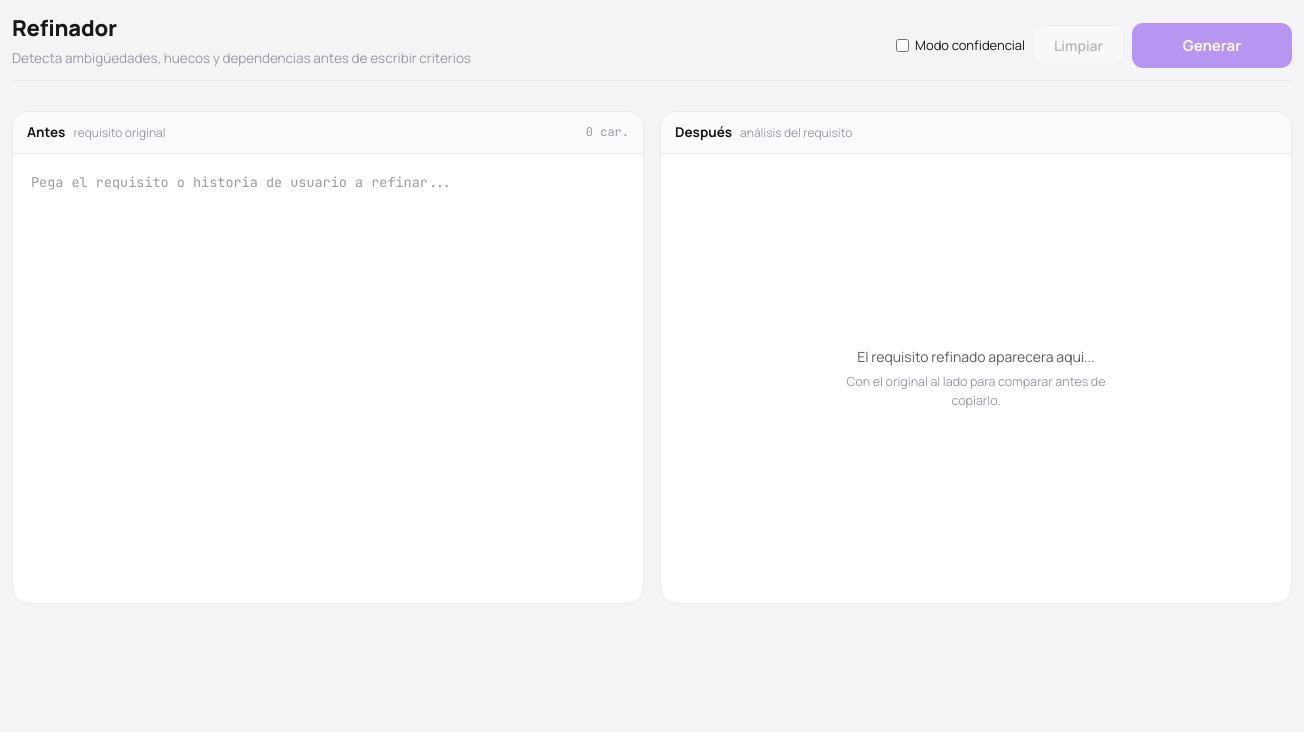
RefinerTool — resumen de hallazgos › no pinta la tarjeta si el modelo responde en prosa sin categorias
Type "El usuario puede filtrar" into the text box.
click(328, 378); type("El usuario puede filtrar")  # box [17, 158, 639, 599]
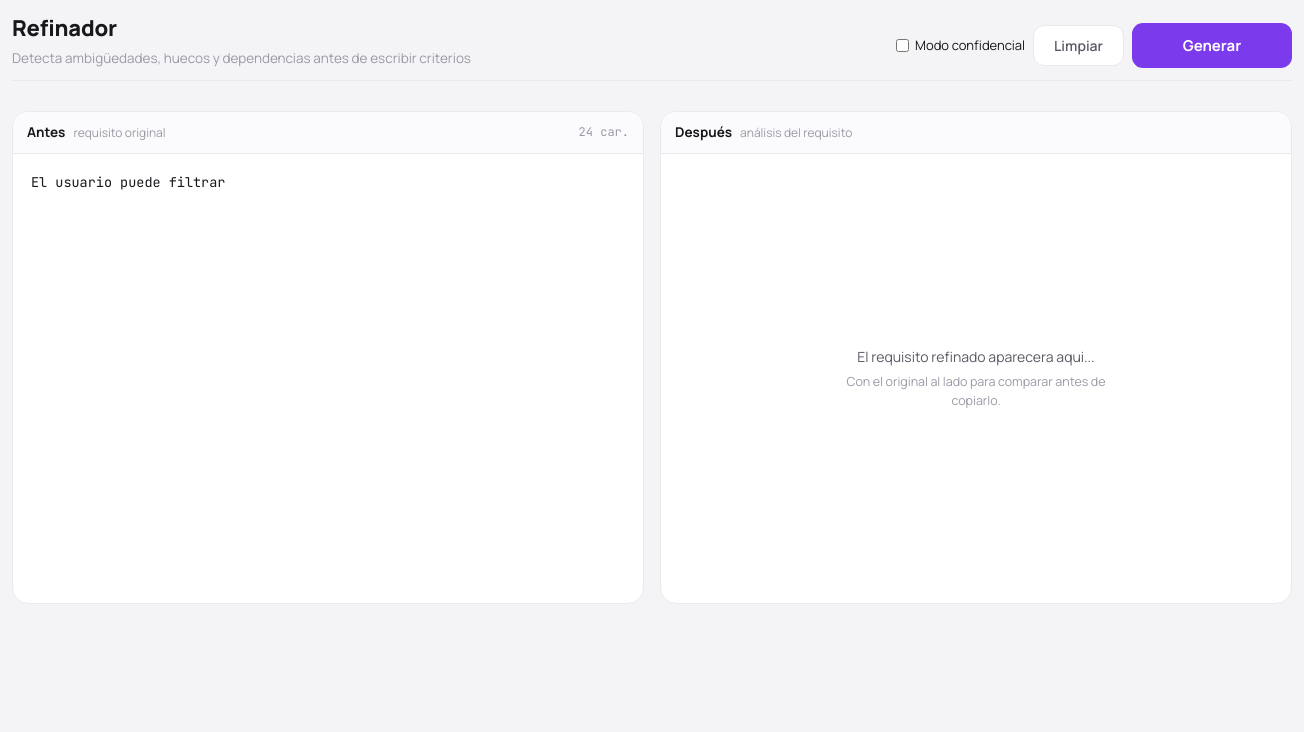
Click the button "Generar".
click(1212, 46)  # box [1132, 23, 1292, 68]
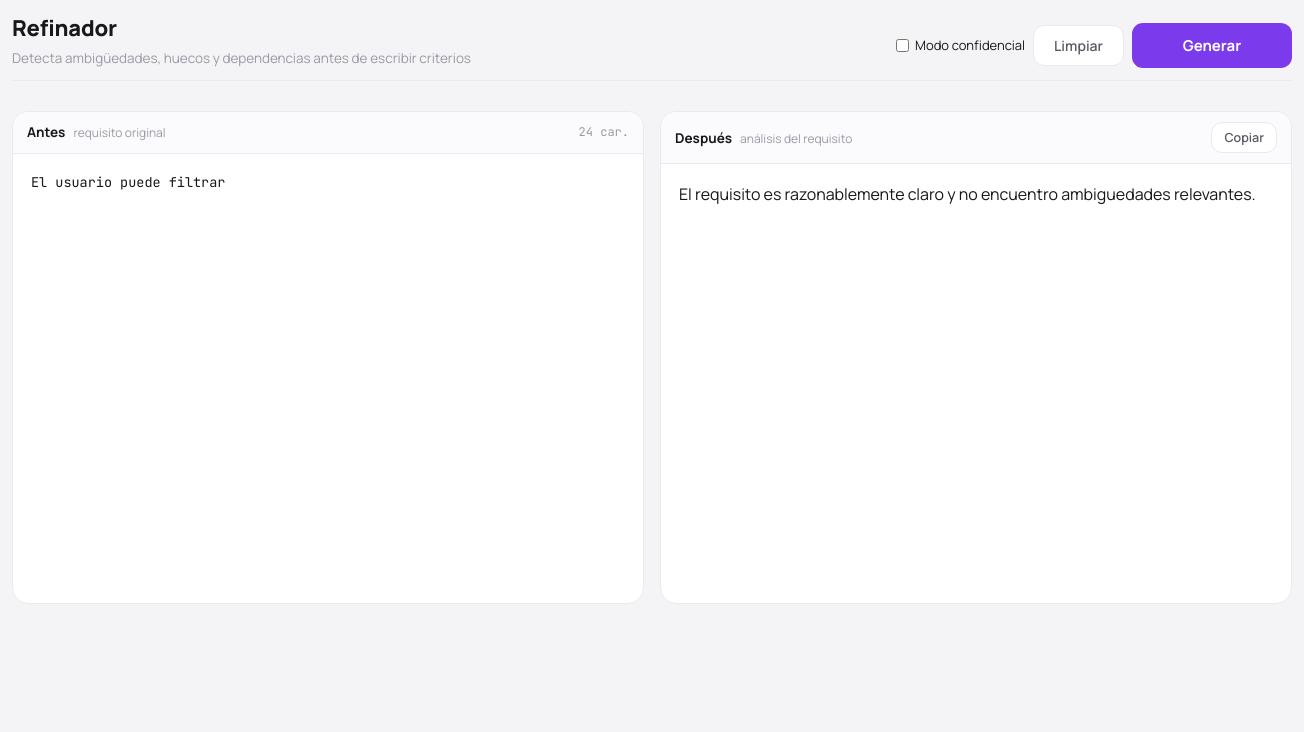
Check: the text "razonablemente claro" is shown, box [679, 183, 1256, 205]
